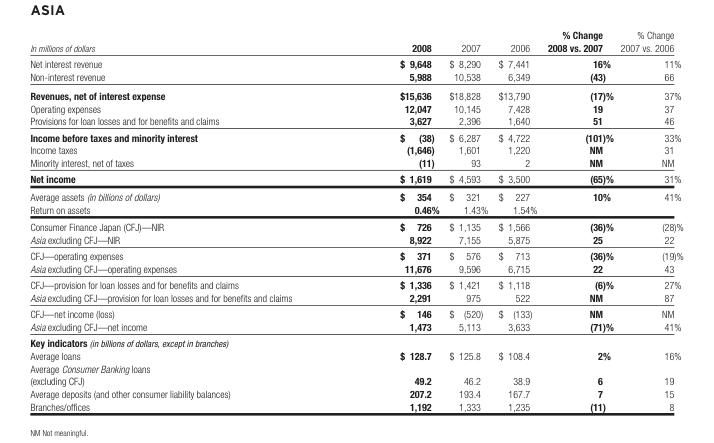table: (29, 28, 682, 411)
table column: (29, 28, 345, 411), (345, 28, 443, 411), (541, 28, 616, 411), (616, 28, 682, 411), (443, 28, 492, 411), (492, 28, 541, 411)
table column header: (29, 28, 682, 55)
table projected row header: (29, 334, 682, 348)
table row: (29, 28, 682, 55), (29, 361, 682, 386), (29, 170, 682, 187), (29, 69, 682, 85), (29, 85, 682, 101), (29, 128, 682, 143), (29, 155, 682, 170), (29, 187, 682, 202), (29, 202, 682, 217), (29, 217, 682, 232), (29, 232, 682, 247), (29, 261, 682, 276), (29, 290, 682, 305), (29, 319, 682, 334), (29, 55, 682, 69), (29, 114, 682, 128), (29, 247, 682, 261), (29, 276, 682, 290), (29, 305, 682, 319), (29, 334, 682, 348), (29, 101, 682, 114), (29, 348, 682, 361), (29, 386, 682, 399), (29, 143, 682, 155), (29, 399, 682, 411)
